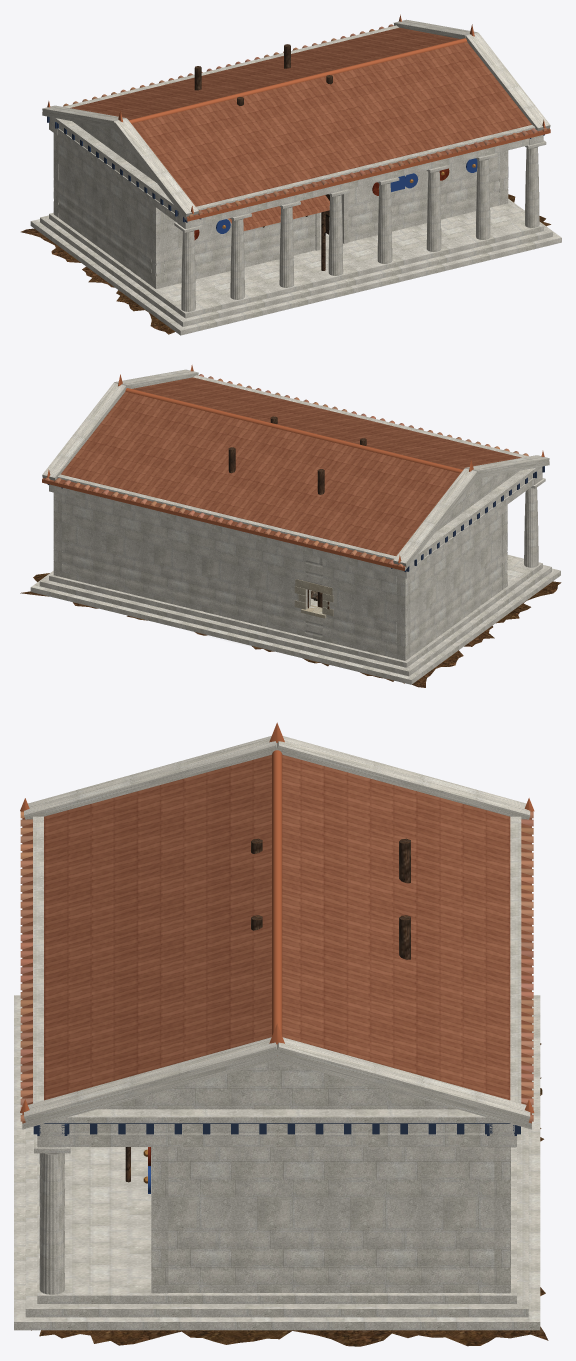
The model's file is hall@2.glb.
3 renders of one model, top to bottom at view 1: azimuth 30°, elevation 25°; view 2: azimuth 150°, elevation 25°; view 3: azimuth 270°, elevation 25°, orthographic. The views are drawn at different scales.
Visible parts, largest first — view 1: part_4, part_18, part_23, part_24, part_1, part_8, part_19; view 2: part_4, part_18, part_23, part_24, part_1, part_9, part_8; view 3: part_4, part_18, part_24, part_1, part_23, part_21, part_8.
Boxes of the visible parts, bbox=[...] form: part_4: bbox=[30, 19, 561, 335]; part_18: bbox=[70, 27, 550, 230]; part_23: bbox=[47, 14, 550, 221]; part_24: bbox=[63, 24, 548, 217]; part_1: bbox=[21, 194, 550, 334]; part_8: bbox=[194, 44, 332, 270]; part_19: bbox=[216, 158, 477, 233]; part_4: bbox=[30, 369, 560, 684]; part_18: bbox=[42, 377, 521, 567]; part_23: bbox=[42, 365, 544, 570]; part_24: bbox=[44, 374, 528, 567]; part_1: bbox=[20, 573, 561, 687]; part_9: bbox=[294, 579, 333, 618]; part_8: bbox=[228, 416, 366, 609]; part_4: bbox=[14, 736, 540, 1330]; part_18: bbox=[22, 754, 531, 1123]; part_24: bbox=[20, 811, 533, 1121]; part_1: bbox=[31, 1043, 548, 1346]; part_23: bbox=[20, 722, 534, 1113]; part_21: bbox=[33, 1123, 520, 1135]; part_8: bbox=[125, 838, 410, 1182].
Size of the model in its own units: 10.01 by 3.96 by 6.59.
Materials: 24 (13 with a texture image).
